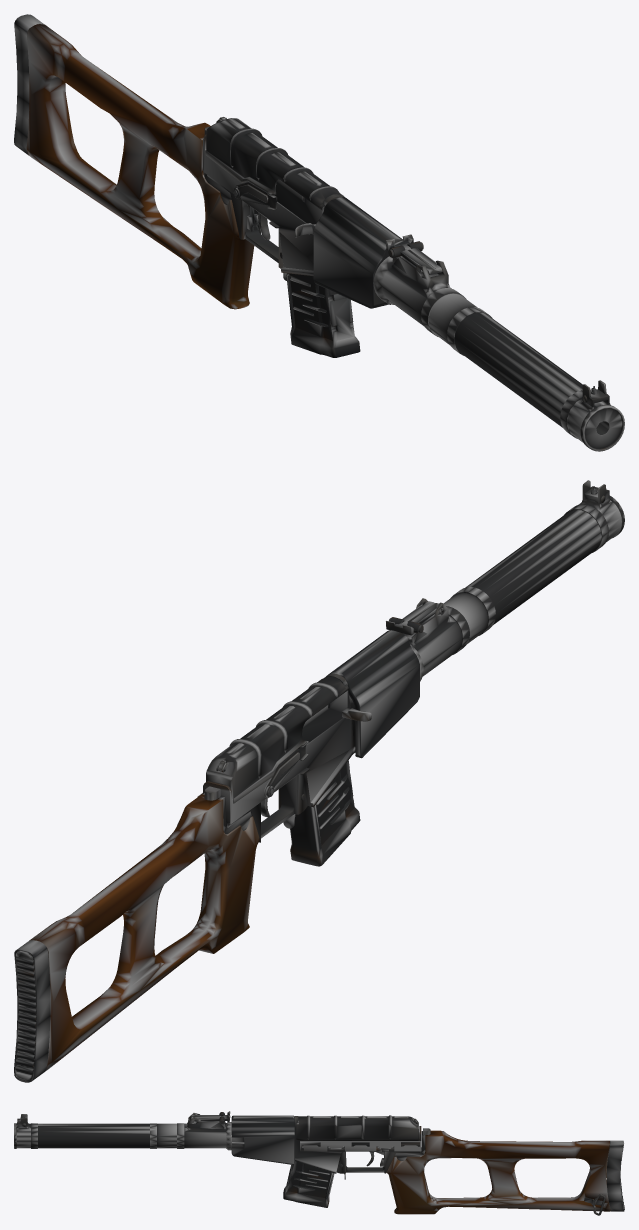
Rendered from vss_vintorez.glb.
3 views of the same model, one above another, from view 1: azimuth 30°, elevation 25°; view 2: azimuth 150°, elevation 25°; view 3: azimuth 270°, elevation 25° (orthographic). The views are drawn at different scales.
Visible parts, largest first — view 1: gun_vss_vintorez; view 2: gun_vss_vintorez; view 3: gun_vss_vintorez.
Boxes of the visible parts, bbox=[...] form: gun_vss_vintorez: bbox=[14, 14, 624, 451]; gun_vss_vintorez: bbox=[14, 480, 624, 1082]; gun_vss_vintorez: bbox=[14, 1111, 624, 1215].
Bounding box in the file's own units: 0.0615 × 0.1756 × 1.
